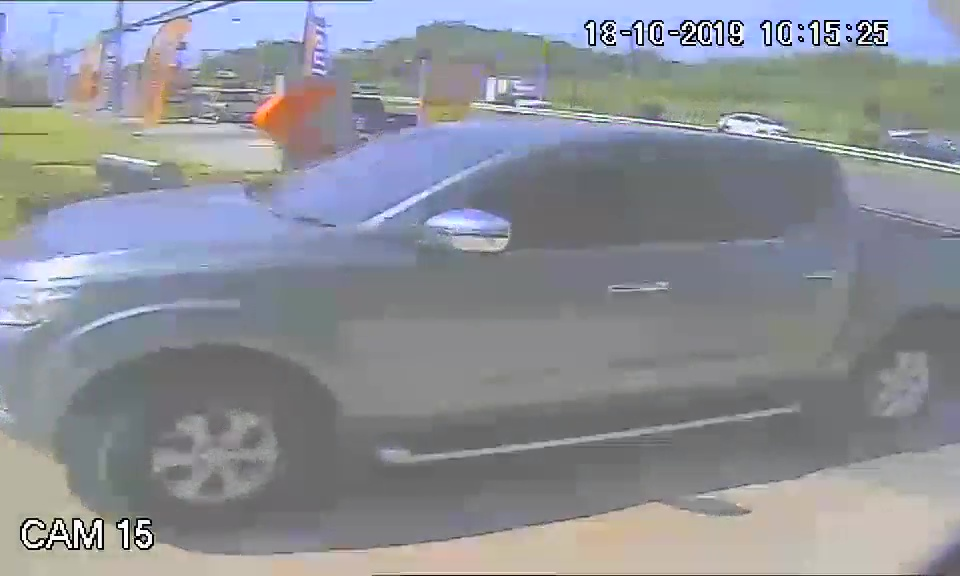pickup: (5, 120, 960, 498)
